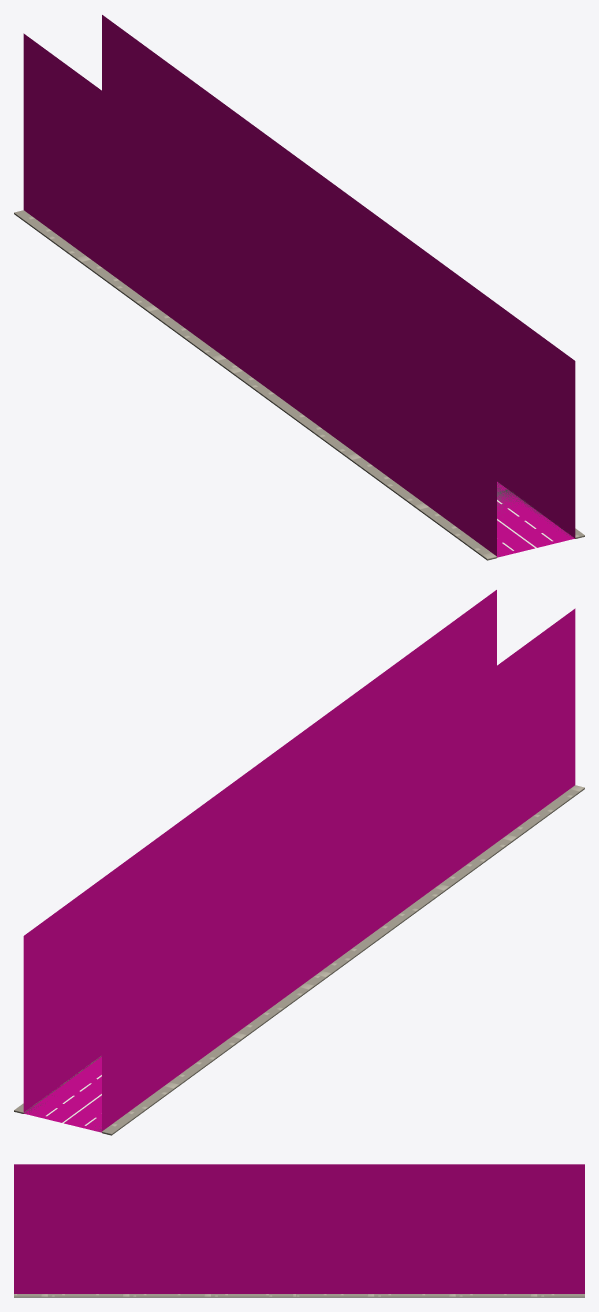
File: Road01.fbx
3 views of the same model, one above another, from view 1: azimuth 30°, elevation 25°; view 2: azimuth 150°, elevation 25°; view 3: azimuth 270°, elevation 25° (orthographic). The views are drawn at different scales.
Parts seen in each view (by area): view 1: Collaider_01, Road_1O.005; view 2: Collaider_01, Road_1O.005; view 3: Collaider_01, Road_1O.005.
Boxes of the visible parts, bbox=[...] form: Collaider_01: bbox=[23, 15, 575, 557]; Road_1O.005: bbox=[14, 210, 584, 560]; Collaider_01: bbox=[23, 590, 575, 1132]; Road_1O.005: bbox=[14, 785, 584, 1135]; Collaider_01: bbox=[14, 1164, 584, 1293]; Road_1O.005: bbox=[14, 1294, 584, 1297].
Bounding box in the file's own units: 610 × 1064 × 5121.
